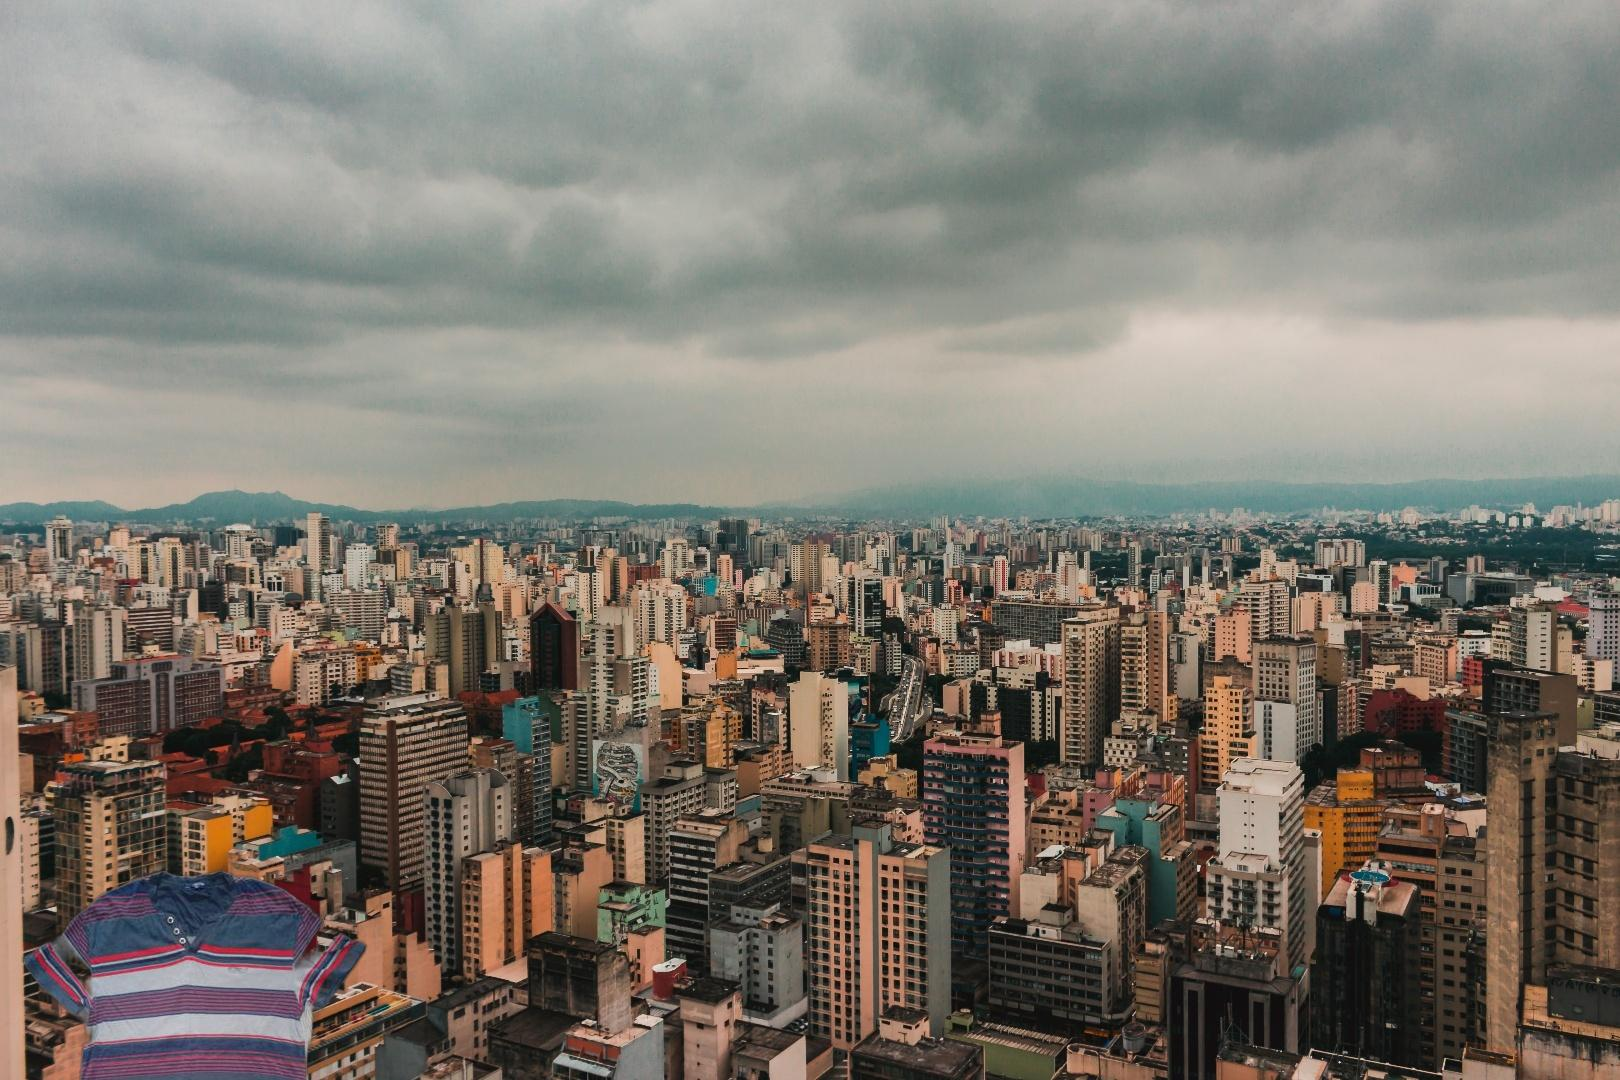clothes: (20, 865, 370, 1080)
